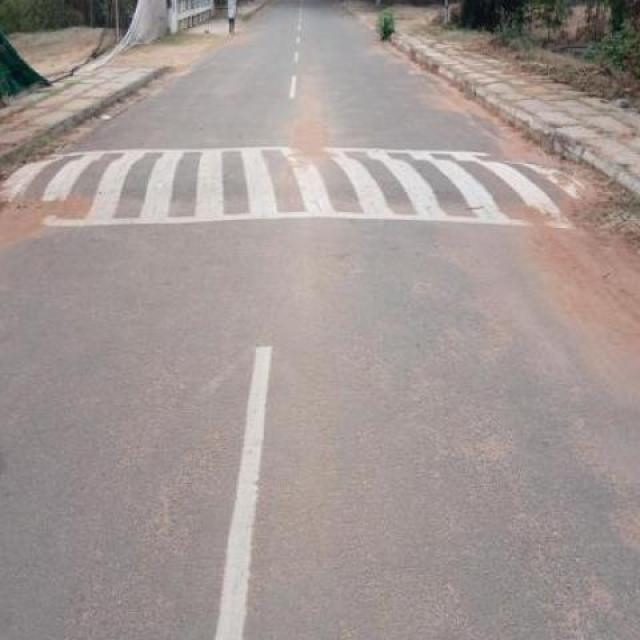Speed Bump: (0, 138, 621, 237)
